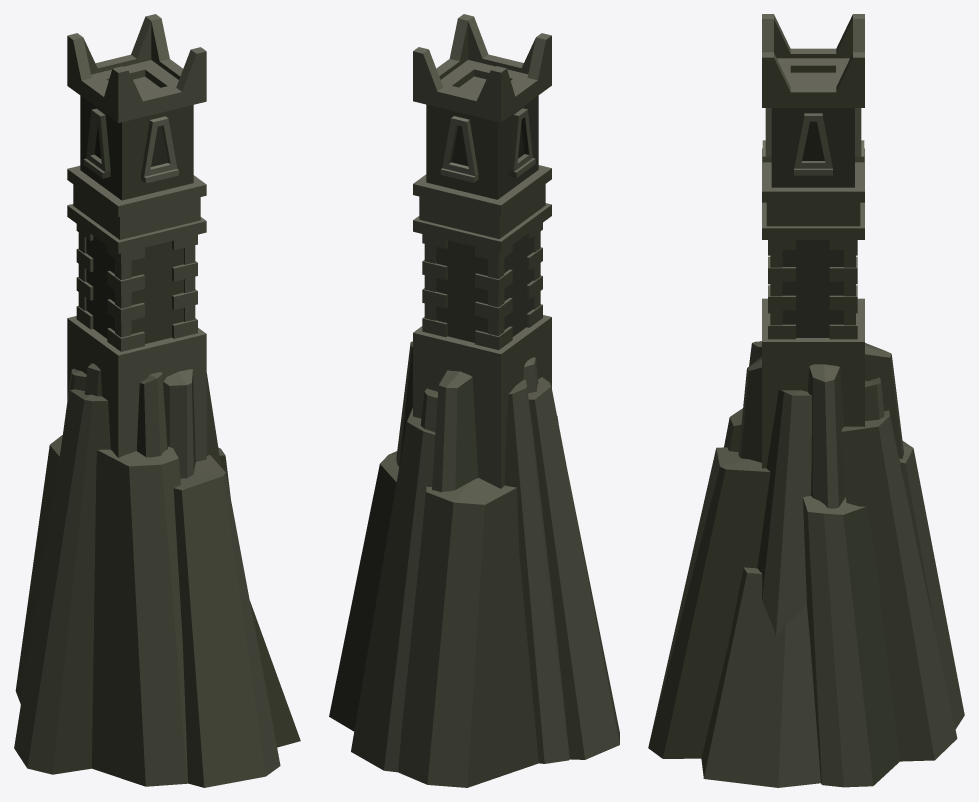
File: Model_Undead_2x2B.fbx
3 renders of one model, left to right at view 1: azimuth 30°, elevation 25°; view 2: azimuth 150°, elevation 25°; view 3: azimuth 270°, elevation 25°, orthographic.
Parts seen in each view (by area): view 1: Model_Frost_2x2B; view 2: Model_Frost_2x2B; view 3: Model_Frost_2x2B.
Part boxes in pixels (x1,y1,x2,y2): Model_Frost_2x2B: (14,14,300,787); Model_Frost_2x2B: (329,14,619,787); Model_Frost_2x2B: (648,14,964,787).
Size of the model in its own units: 313 by 814 by 339.
Materials: 1 (1 with a texture image).
